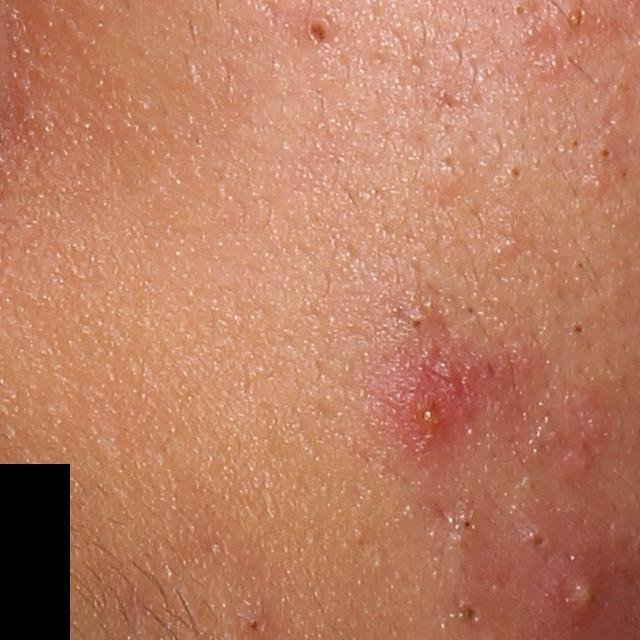comedo: (455, 513, 483, 543), (304, 20, 329, 51), (524, 530, 549, 558), (501, 160, 525, 187), (406, 312, 426, 343), (458, 603, 478, 628), (510, 0, 532, 21), (567, 318, 584, 345), (569, 7, 585, 32), (573, 257, 593, 274)
pustule: (560, 567, 599, 620)
